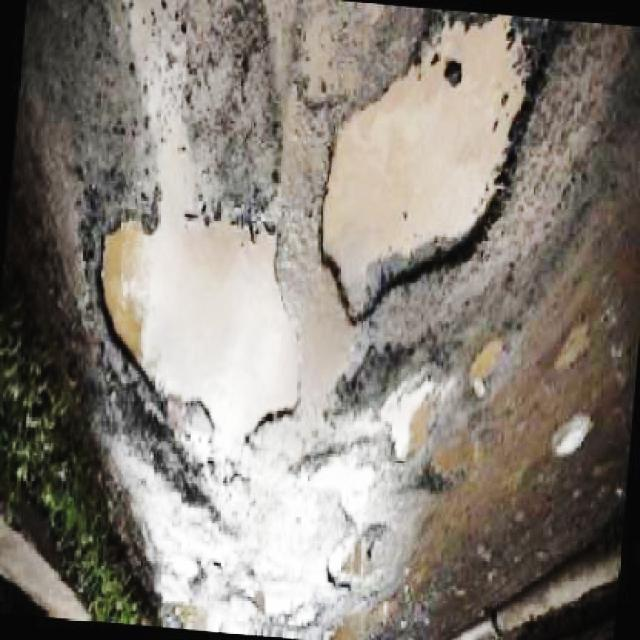pothole: (320, 14, 569, 326), (89, 212, 305, 480), (377, 337, 520, 481), (296, 452, 396, 586), (162, 571, 330, 640), (551, 312, 611, 368)
